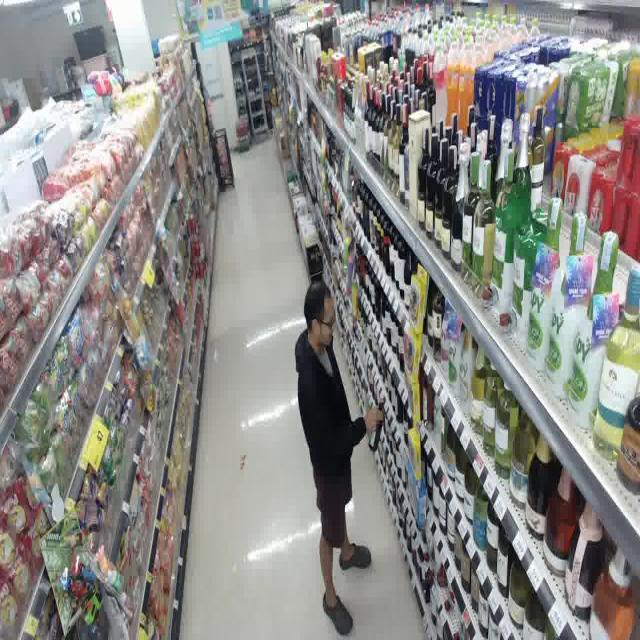pickup: (285, 262, 393, 640)
